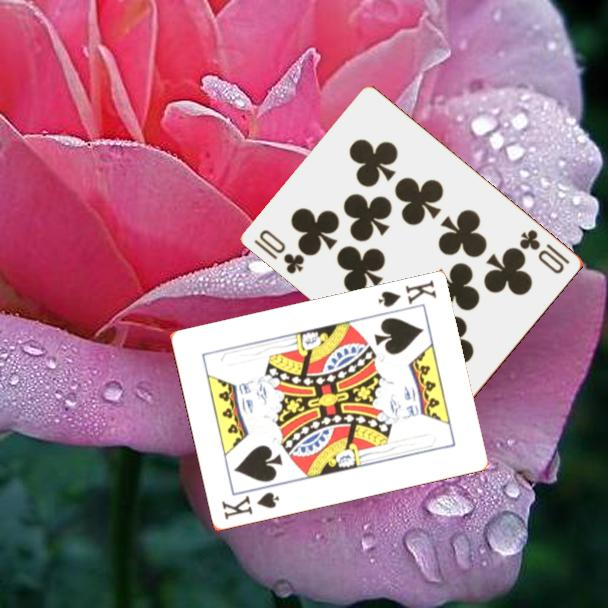c10: (516, 226, 573, 277), (251, 226, 308, 277)
s13: (374, 277, 439, 311), (218, 489, 282, 523)
